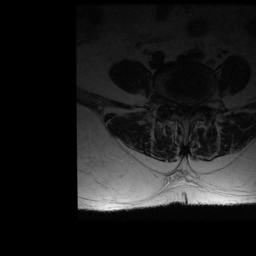CCS_severe_stenosis: (183, 101, 188, 124)
LFS_stenosis: (194, 97, 201, 114)
LLS_severe_stenosis: (188, 100, 194, 118)
RFS_normal: (171, 95, 177, 116)
RLS_severe_stenosis: (177, 99, 182, 119)
